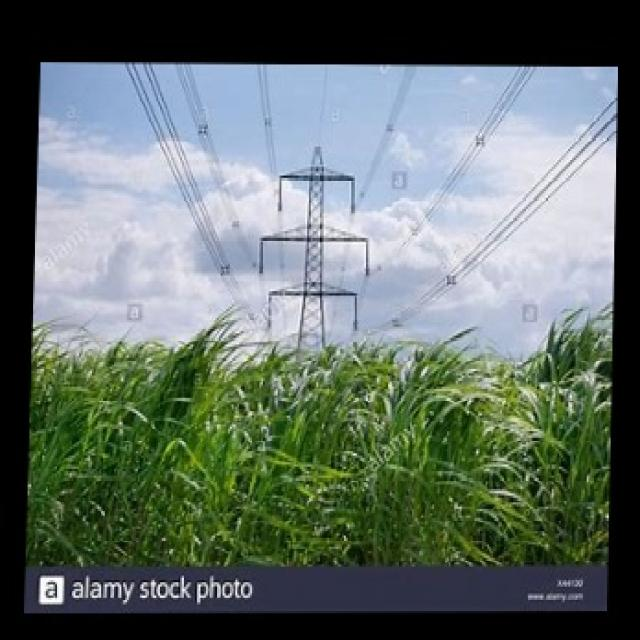utility poles: (250, 108, 377, 524)
